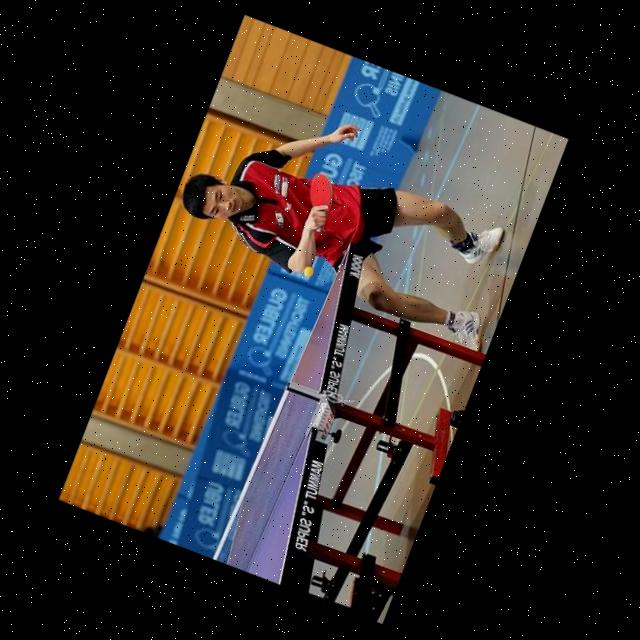ping-pong-ball: (302, 264, 315, 278)
